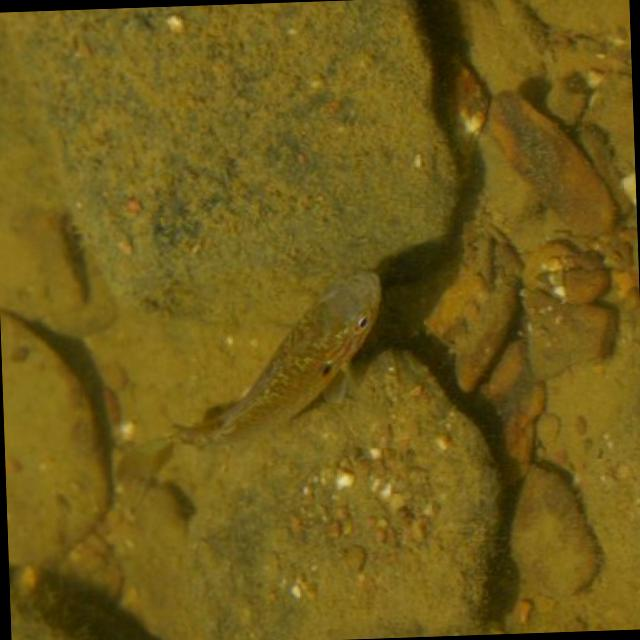Gunes Levregi: (112, 264, 409, 490)
